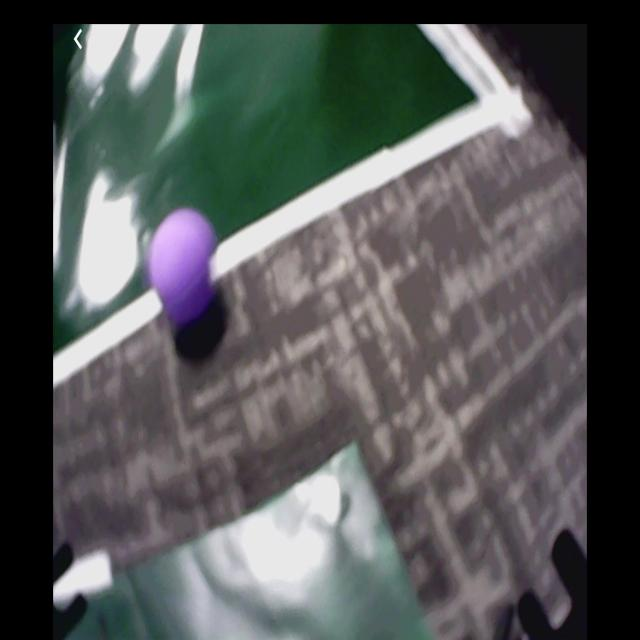ball: (149, 210, 219, 328)
